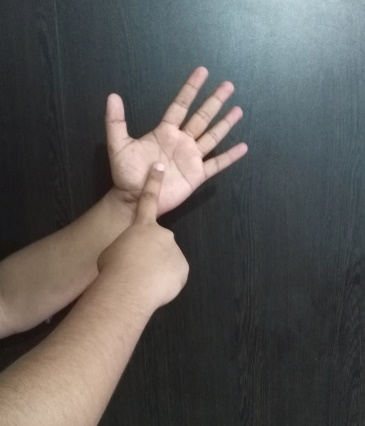oo: (104, 64, 249, 302)
